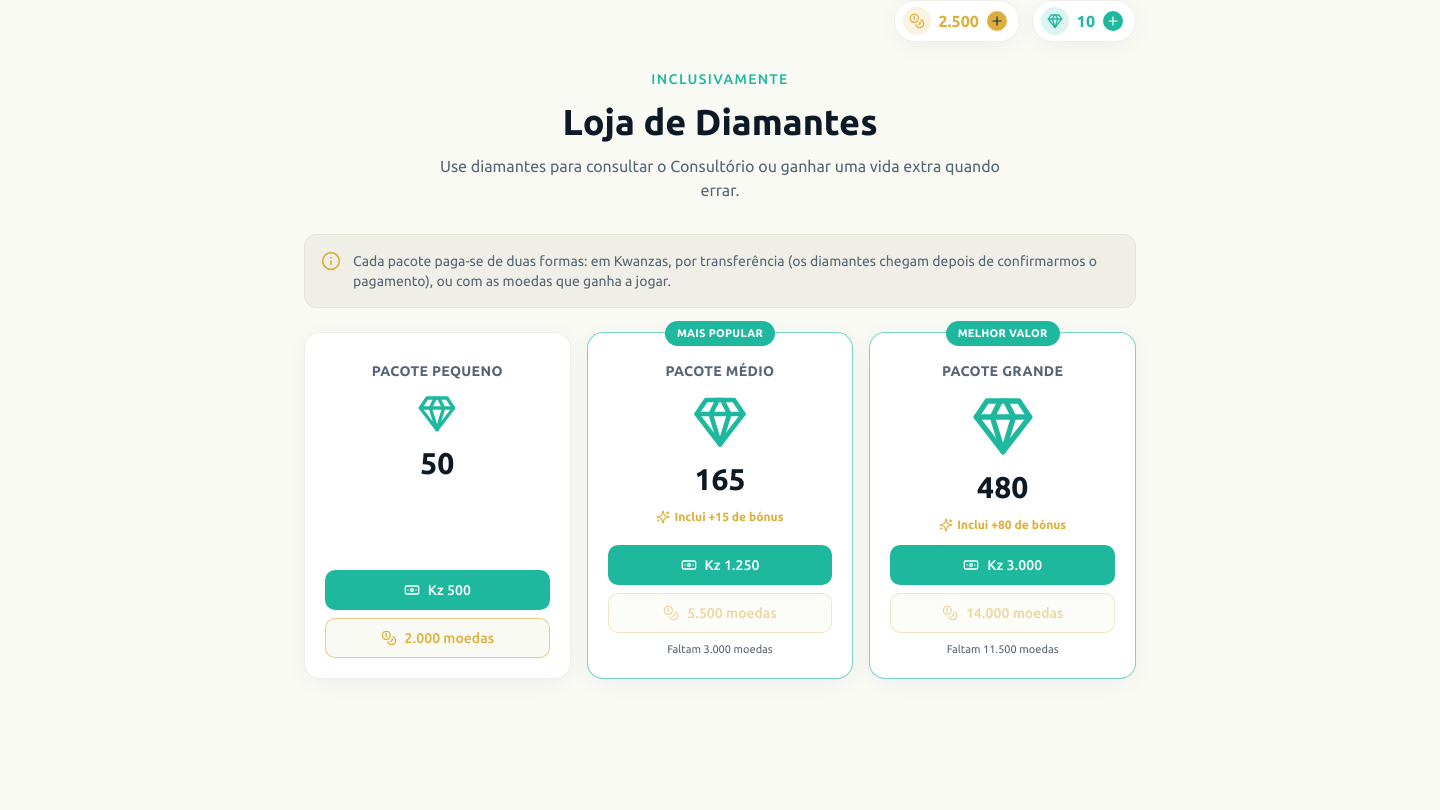
Test: LojaDiamantes › comprar com moedas: confirma, envia o método 'moedas' e actualiza a barra pela resposta da API
Click the button with aria-label "Trocar 2.000 moedas por 50 diamantes". click: point(437, 638)
box: [325,618,550,658]
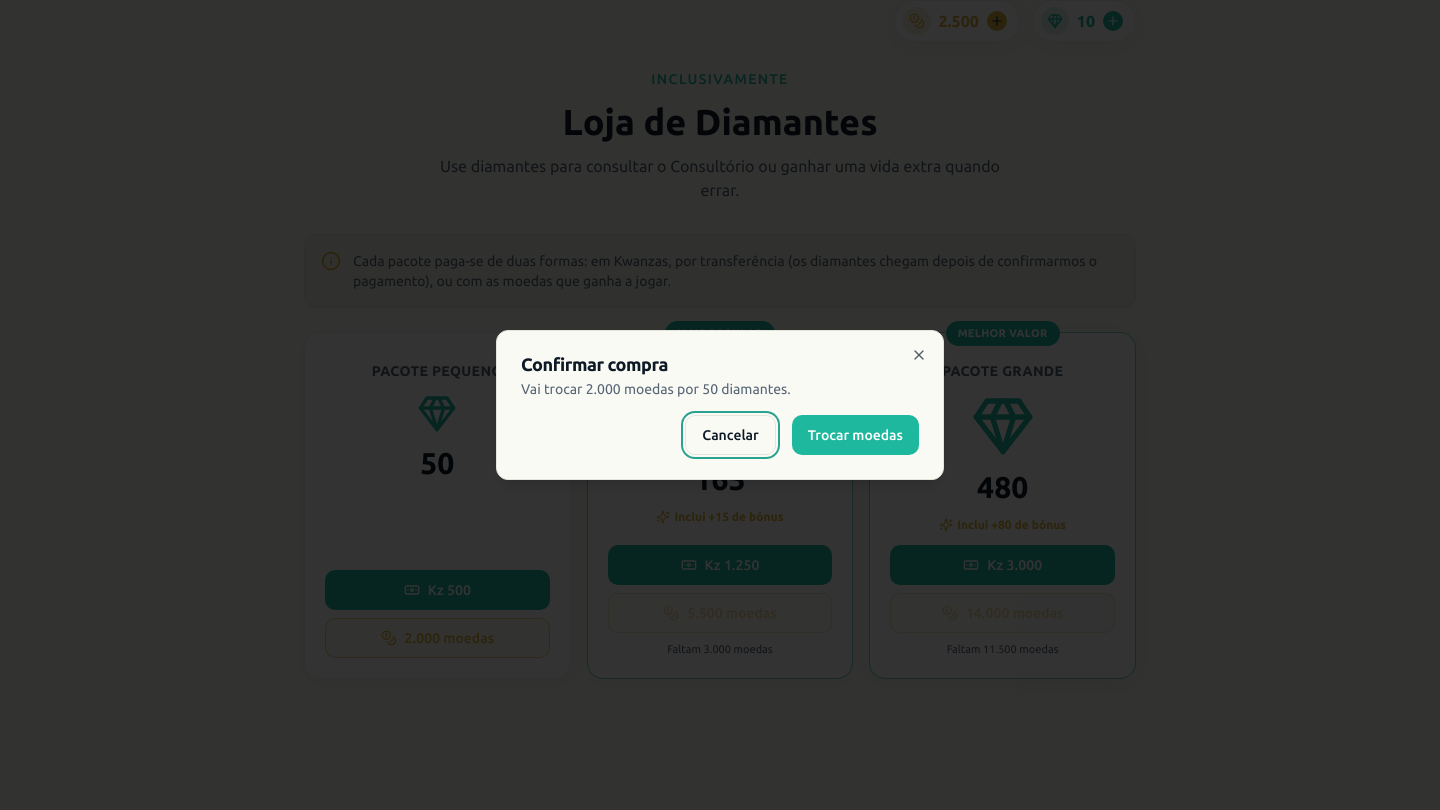
Check: the text "Vai trocar 2.000 moedas por 50 diamantes." is shown, box [521,381,791,397]
Click the button "Trocar moedas". click: point(855, 435)
box: [792,415,919,455]
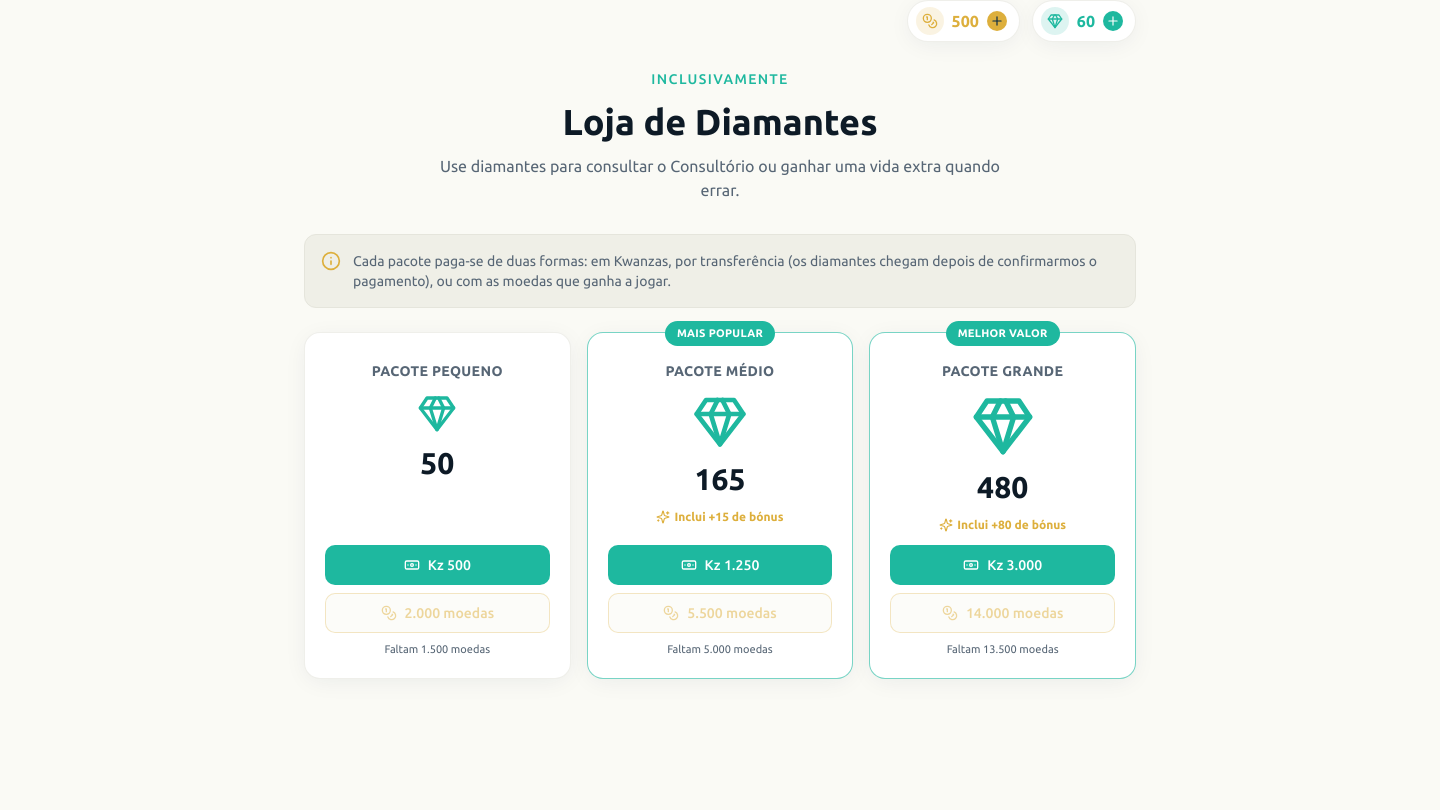
Check: the link named "Diamantes" reads "60", box [1032,0,1136,42]
